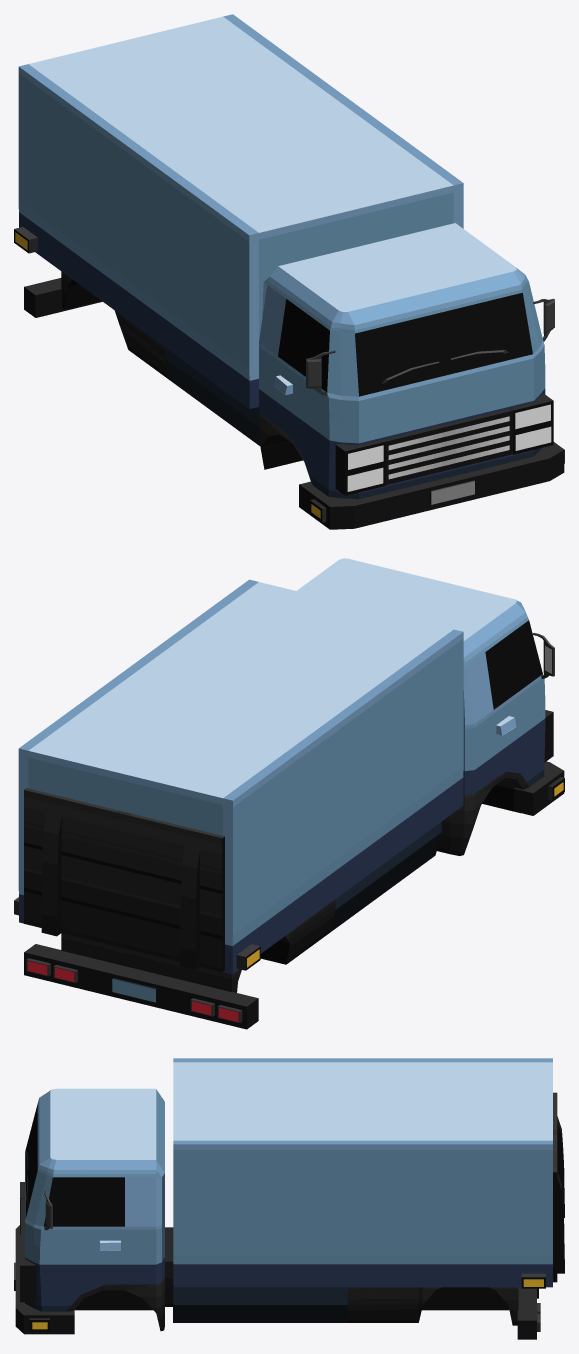
Rendered from Truck.002.fbx.
3 views of the same model, one above another, from view 1: azimuth 30°, elevation 25°; view 2: azimuth 150°, elevation 25°; view 3: azimuth 270°, elevation 25° (orthographic). The views are drawn at different scales.
Visible parts, largest first — view 1: Truck.002; view 2: Truck.002; view 3: Truck.002.
Part boxes in pixels (<box>): Truck.002: <box>14,14,564,529</box>; Truck.002: <box>14,558,564,1029</box>; Truck.002: <box>14,1058,564,1339</box>.
Size of the model in its own units: 2.25 by 2.03 by 5.25.
